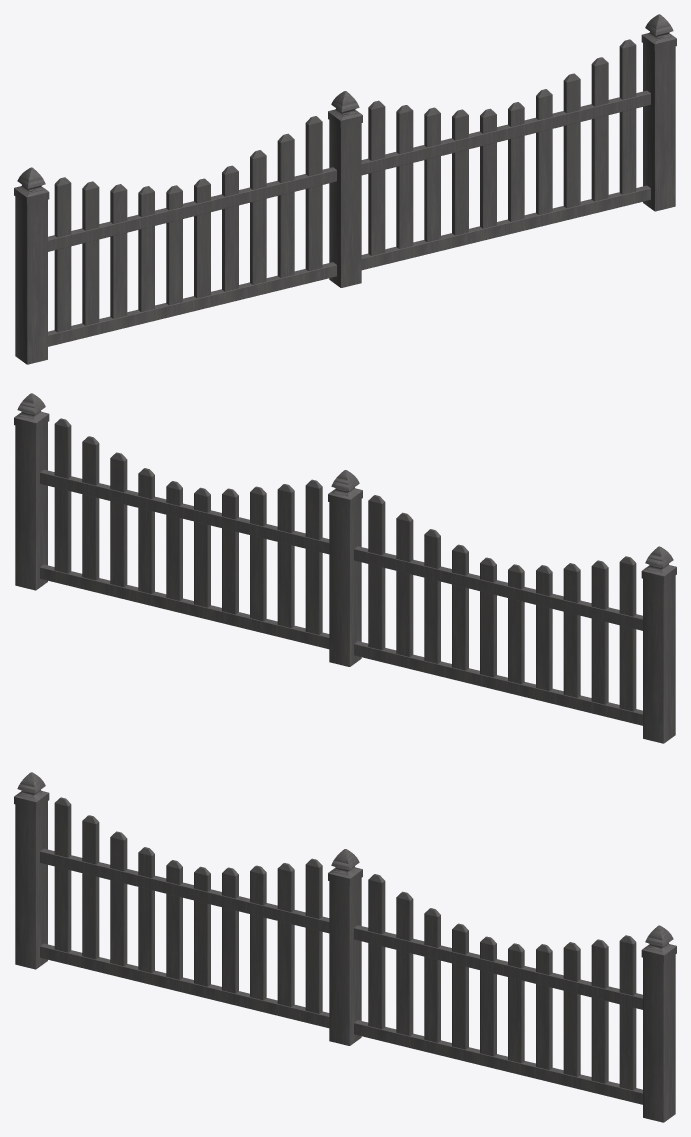
The model's file is fence.glb.
3 renders of one model, top to bottom at view 1: azimuth 30°, elevation 25°; view 2: azimuth 150°, elevation 25°; view 3: azimuth 330°, elevation 25°, orthographic.
Parts seen in each view (by area): view 1: Cube.041; view 2: Cube.041; view 3: Cube.041.
Part boxes in pixels (x1,y1,x2,y2): Cube.041: [14, 14, 676, 364]; Cube.041: [14, 393, 676, 743]; Cube.041: [14, 772, 676, 1122].
Size of the model in its own units: 4.66 by 1.3 by 0.1624.
Materials: 1 (1 with a texture image).
